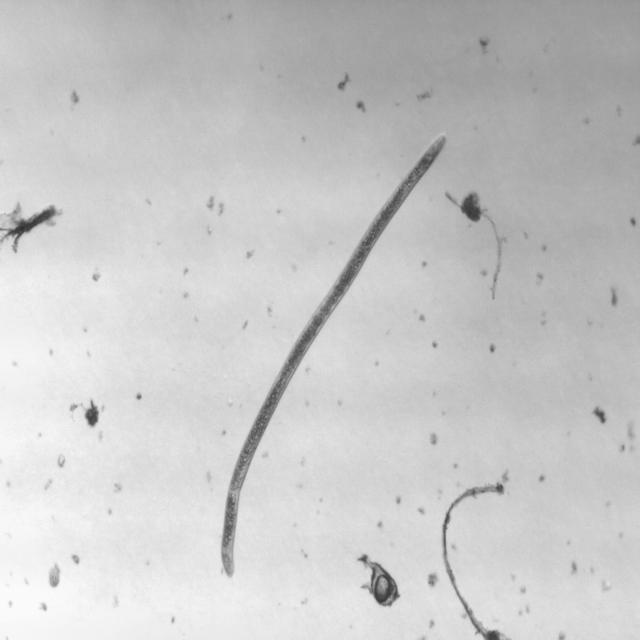Meloidogyne: (218, 126, 454, 588)
